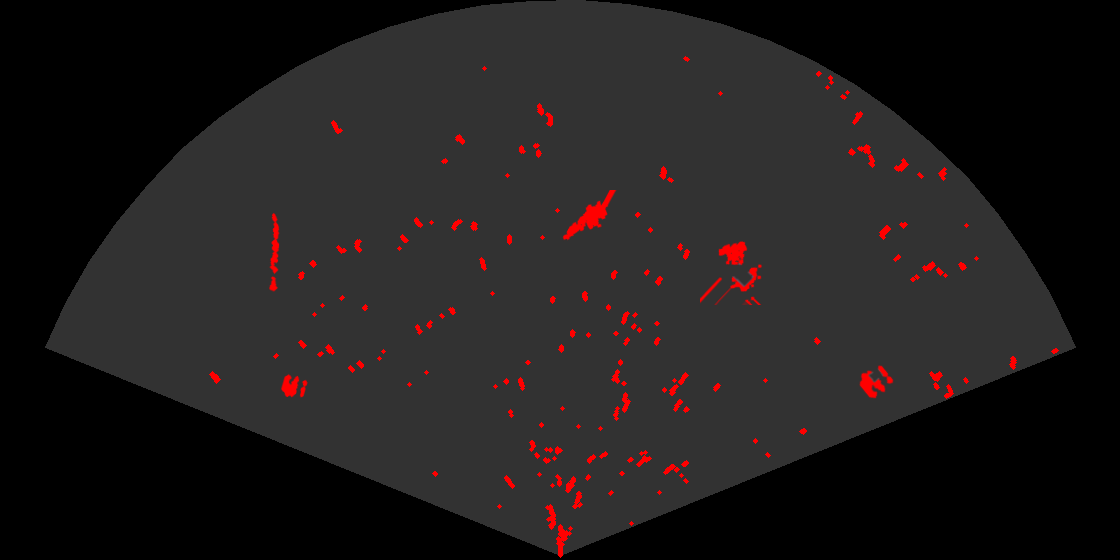ball: (858, 364, 895, 400), (279, 372, 309, 399)
cage: (700, 240, 764, 305)
chain: (268, 211, 281, 292)
frogman: (561, 190, 617, 242)
